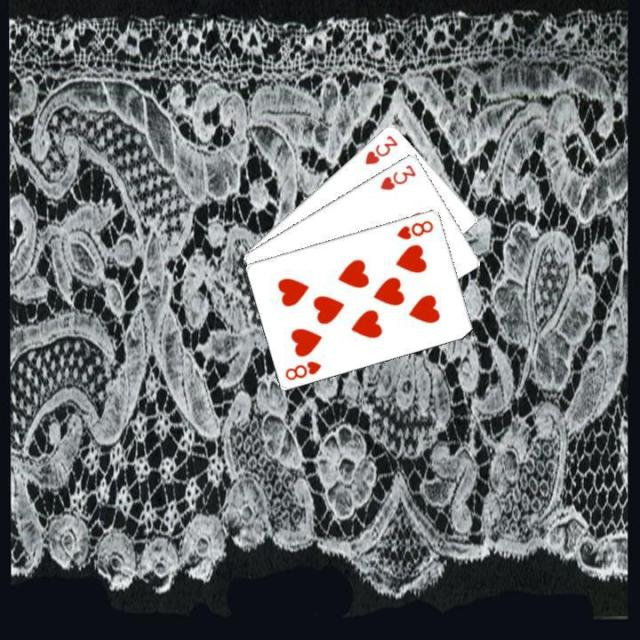3H: (361, 131, 400, 166), (376, 160, 418, 192)
8H: (281, 356, 323, 382), (393, 216, 435, 241)
